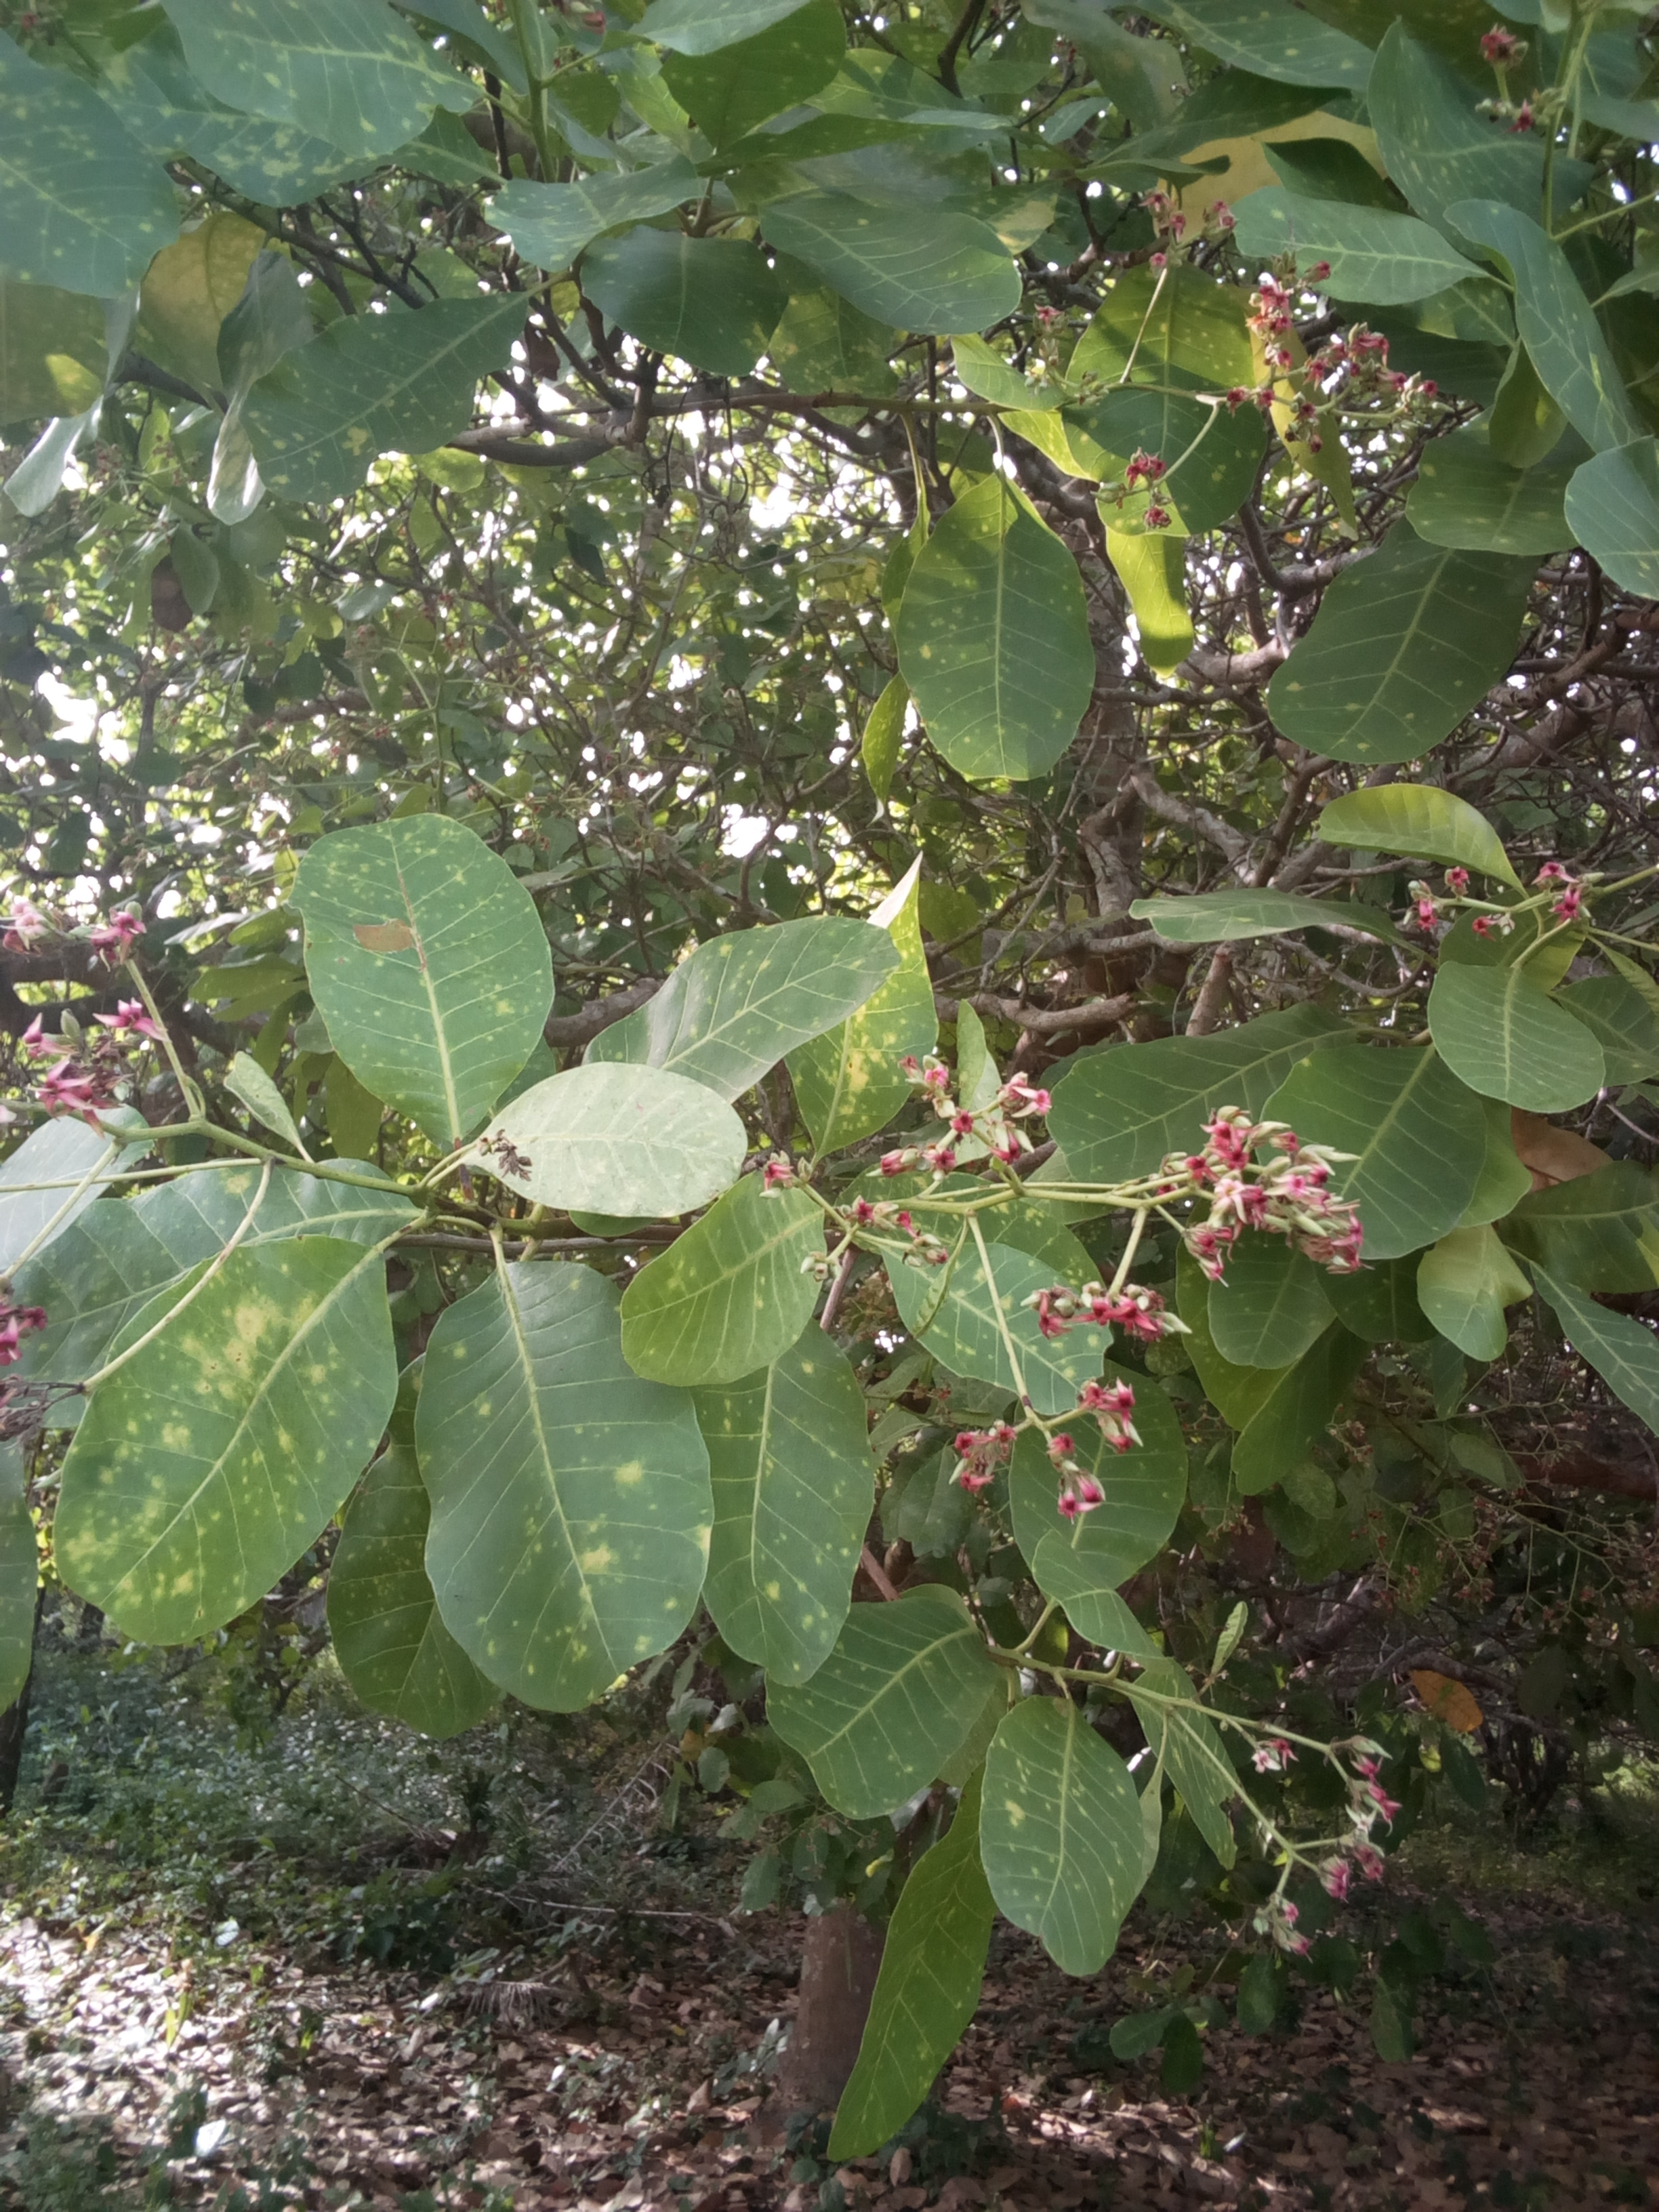Carence minérale: (47, 1204, 416, 1651), (410, 1261, 765, 1705), (281, 812, 554, 1134), (969, 1686, 1232, 1984), (589, 892, 931, 1120), (708, 1346, 904, 1723), (1429, 181, 1643, 469), (155, 2, 471, 185), (3, 31, 183, 343), (873, 1228, 1124, 1425)
